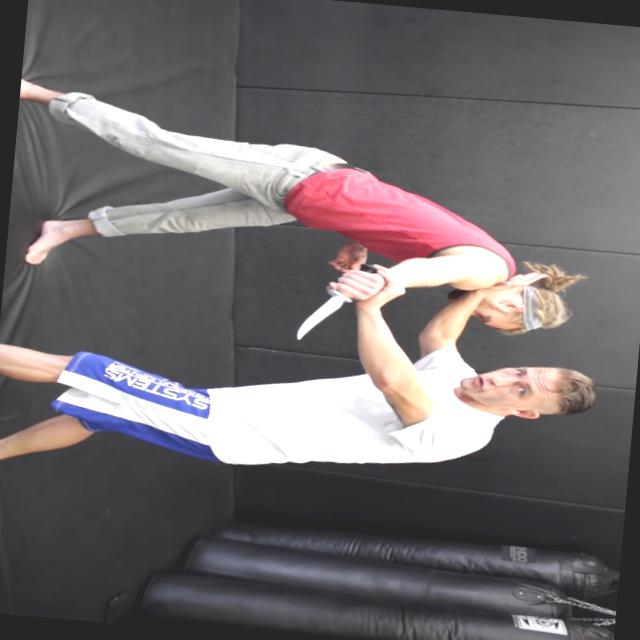knife: (285, 252, 385, 352)
